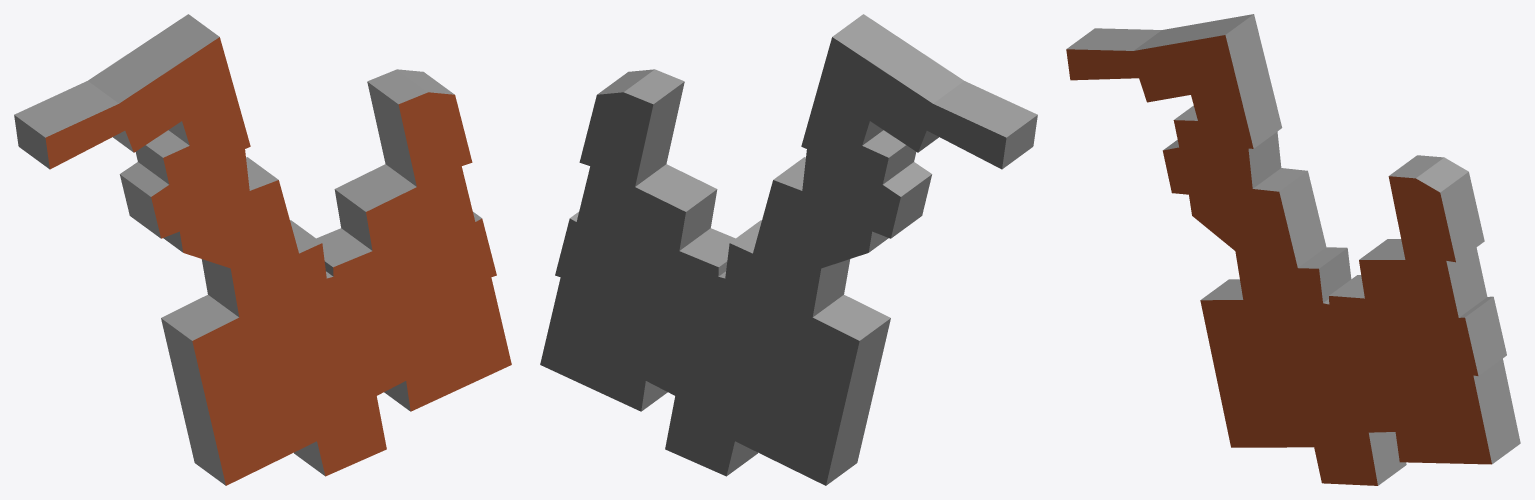
The model's file is construction_4740_assumed_A_Casa_h6m.obj.
3 views of the same model, side by side, from view 1: azimuth 30°, elevation 25°; view 2: azimuth 150°, elevation 25°; view 3: azimuth 330°, elevation 25° (orthographic). The views are drawn at different scales.
Visible parts, largest first — view 1: construction_4740_assumed_A_Casa; view 2: construction_4740_assumed_A_Casa; view 3: construction_4740_assumed_A_Casa.
Part boxes in pixels (x1,y1,x2,y2): construction_4740_assumed_A_Casa: (14, 14, 511, 485); construction_4740_assumed_A_Casa: (540, 14, 1037, 485); construction_4740_assumed_A_Casa: (1066, 14, 1520, 485).
Size of the model in its own units: 51.51 by 49.1 by 6.
